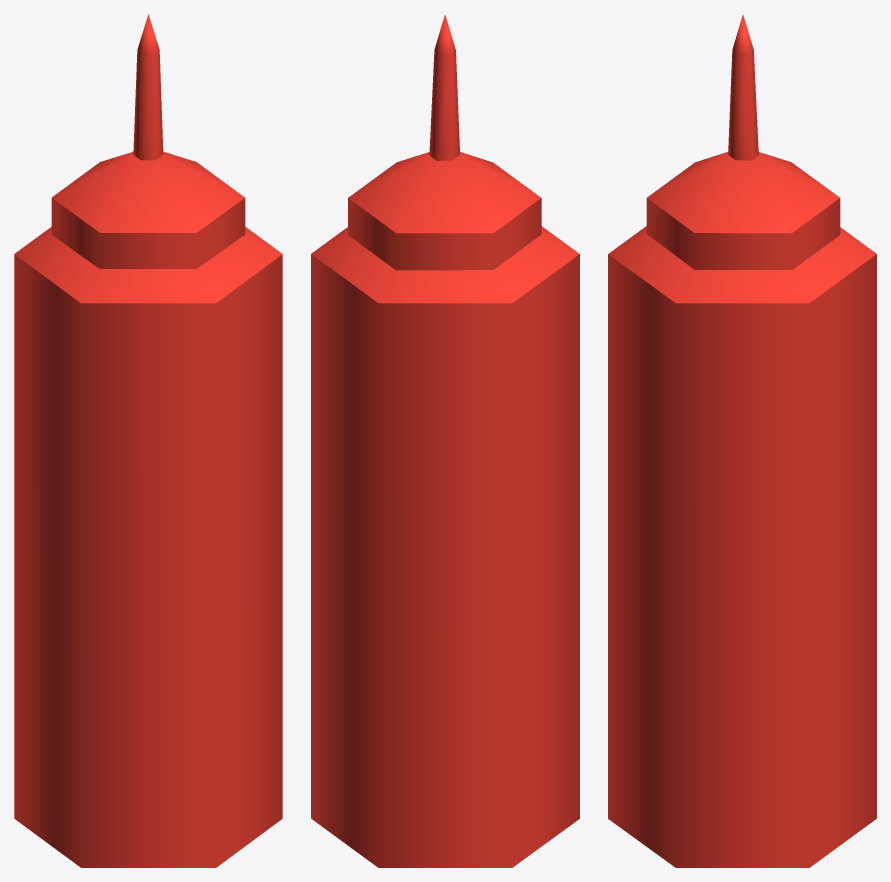
Rendered from ketchup.glb.
3 views of the same model, side by side, from view 1: azimuth 30°, elevation 25°; view 2: azimuth 150°, elevation 25°; view 3: azimuth 270°, elevation 25° (orthographic).
Parts seen in each view (by area): view 1: ketchup_001; view 2: ketchup_001; view 3: ketchup_001.
Part boxes in pixels (x1,y1,x2,y2): ketchup_001: (14, 14, 282, 867); ketchup_001: (311, 14, 579, 867); ketchup_001: (608, 15, 876, 867).
Size of the model in its own units: 0.1076 by 0.4097 by 0.1241.
Materials: 1 (1 with a texture image).
